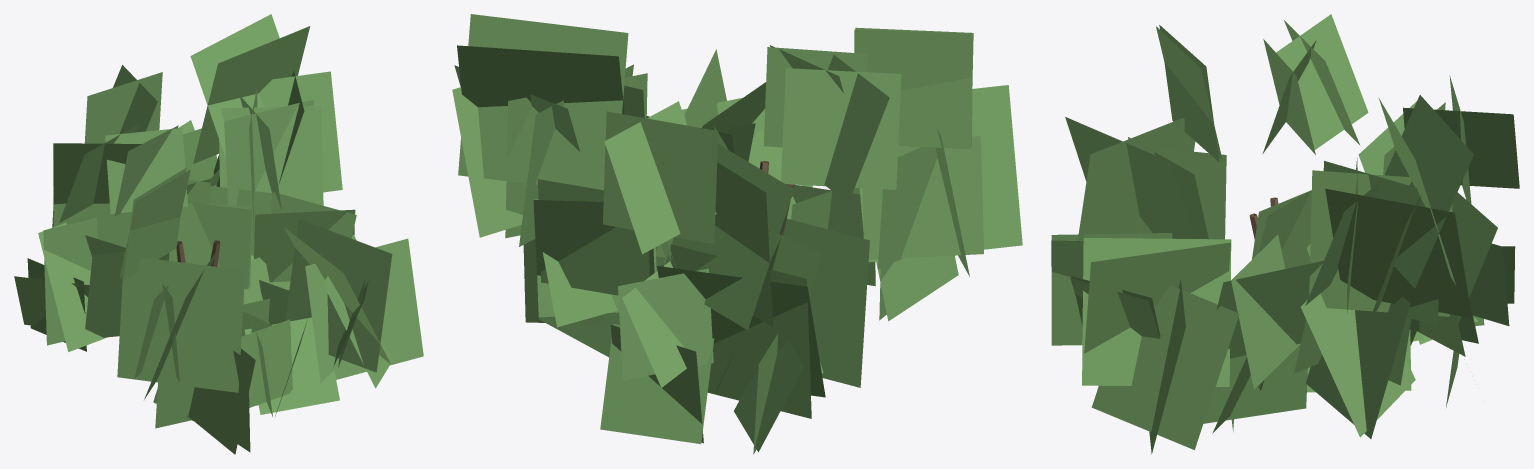
Rendered from shrub.glb.
3 renders of one model, left to right at view 1: azimuth 30°, elevation 25°; view 2: azimuth 150°, elevation 25°; view 3: azimuth 270°, elevation 25°, orthographic. The views are drawn at different scales.
Parts seen in each view (by area): view 1: shrub_leaves; view 2: shrub_leaves; view 3: shrub_leaves.
Part boxes in pixels (left/top/right/bottom): shrub_leaves: left=14, top=14, right=423, bottom=454; shrub_leaves: left=452, top=14, right=1022, bottom=454; shrub_leaves: left=1051, top=14, right=1519, bottom=454.
Size of the model in its own units: 2.11 by 1.86 by 2.29.
